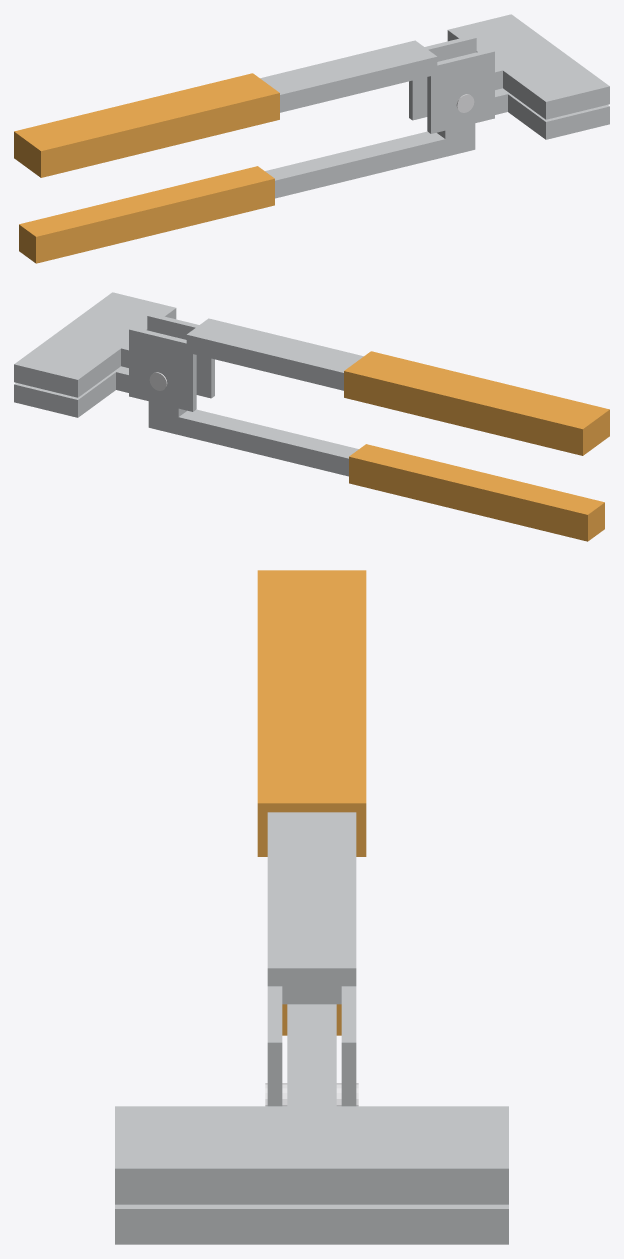
Rendered from seamer-80.glb.
The picture shows the model from 3 angles, top to bottom: view 1: azimuth 30°, elevation 25°; view 2: azimuth 150°, elevation 25°; view 3: azimuth 270°, elevation 25°; orthographic projection. The views are drawn at different scales.
Parts seen in each view (by area): view 1: body, jaw; view 2: body, jaw; view 3: body, jaw.
Part boxes in pixels (box(x1,y1,x2,y2)): body: box(14, 35, 609, 177); jaw: box(19, 14, 609, 263); body: box(14, 313, 609, 455); jaw: box(14, 292, 604, 541); body: box(115, 570, 508, 1244); jaw: box(115, 1004, 508, 1204).
Size of what is drawn, in the model's own units: 0.25 by 0.052 by 0.08.
